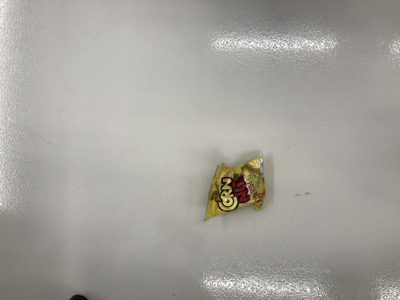corn nuts: (205, 157, 265, 220)
